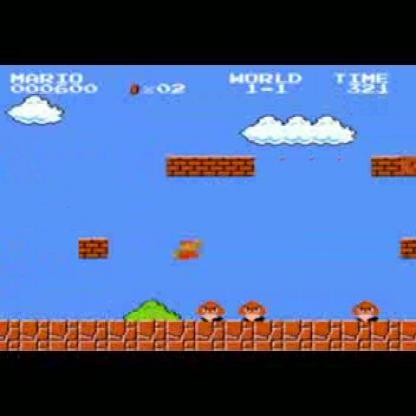Goomba: (349, 298, 386, 324), (197, 298, 226, 323), (240, 298, 268, 321)
